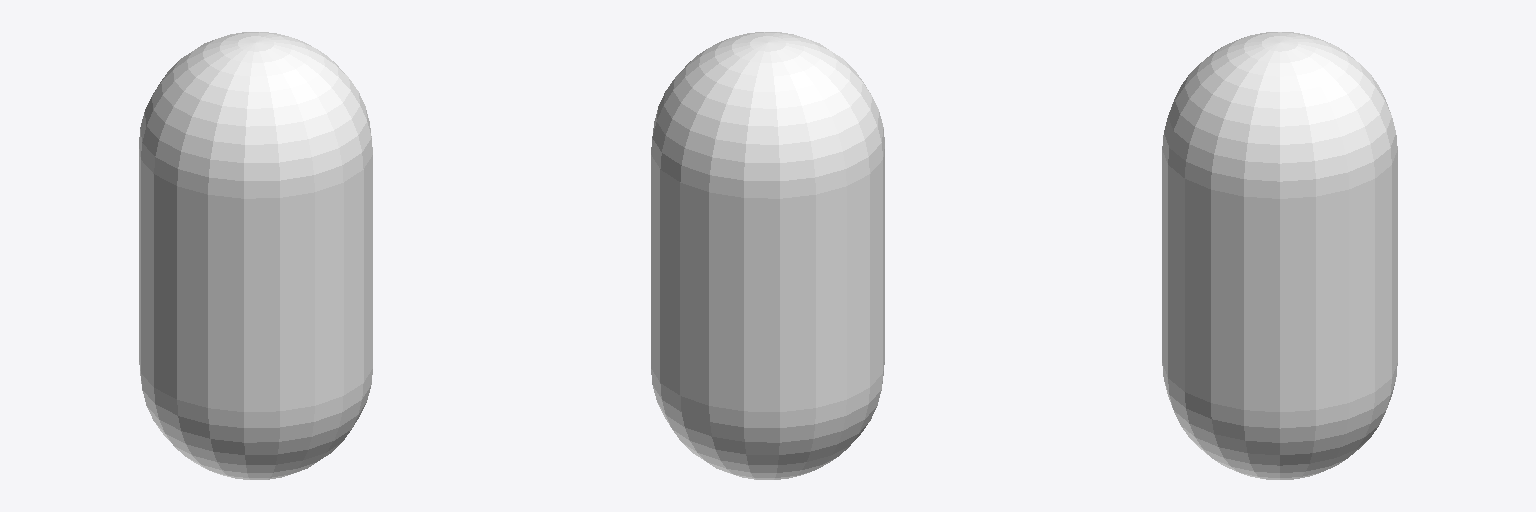
3 renders of one model, left to right at view 1: azimuth 30°, elevation 25°; view 2: azimuth 150°, elevation 25°; view 3: azimuth 270°, elevation 25°, orthographic.
Parts seen in each view (by area): view 1: UModeler Object; view 2: UModeler Object; view 3: UModeler Object.
Boxes of the visible parts, x1,y1,x2,y2 form: UModeler Object: [139, 32, 372, 479]; UModeler Object: [651, 32, 884, 479]; UModeler Object: [1162, 32, 1397, 479].
Size of the model in its own units: 1 by 2 by 1.